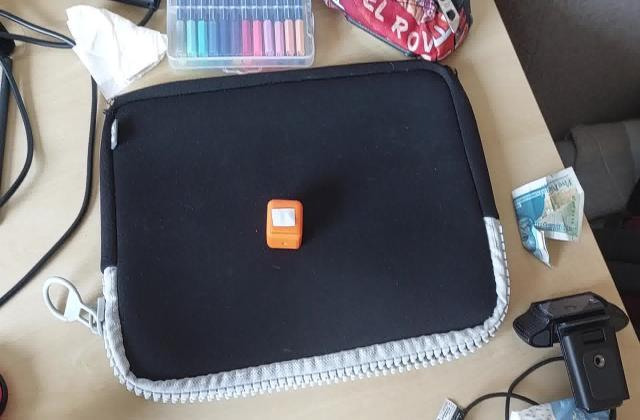sticker: (264, 198, 304, 250)
white: (268, 206, 298, 229)
